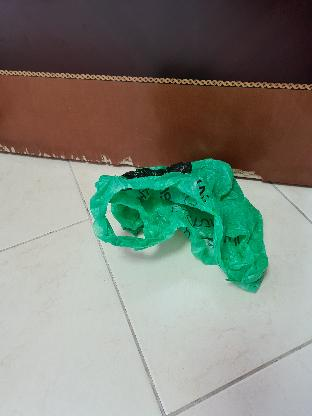Plastic Bag: (91, 157, 269, 292)
